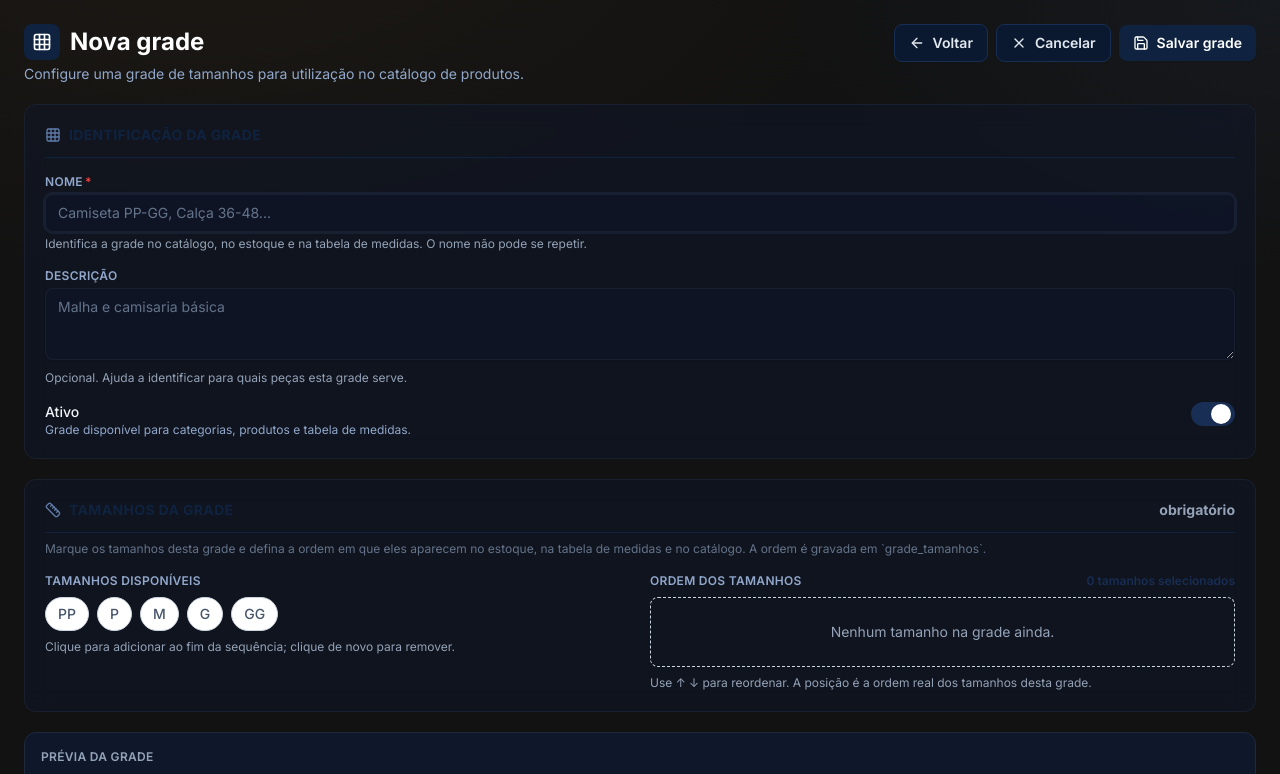
Scenario: nova grade — página própria do ERP › não aceita tamanho duplicado: clicar de novo REMOVE da grade
Click the button "P" at (114, 614), box x1=97 y1=597 x2=132 y2=631
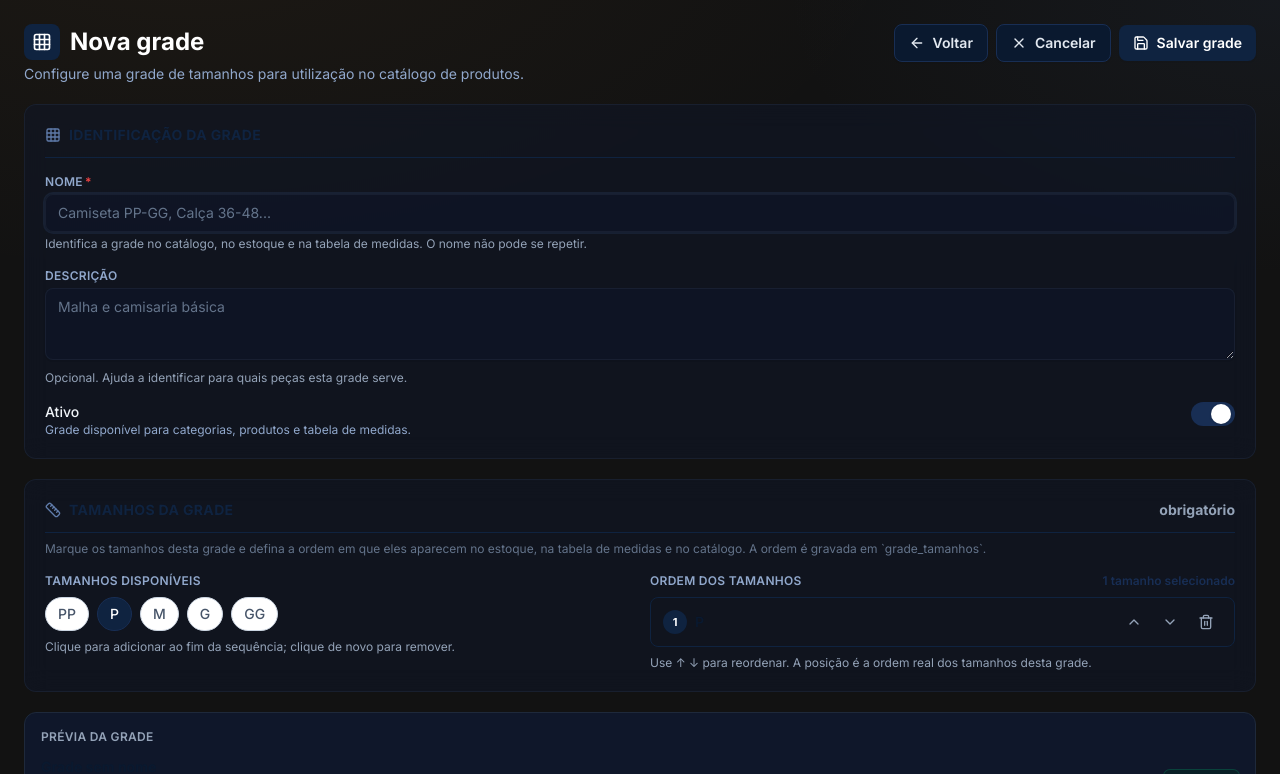
Click the button "P" at (114, 614), box x1=97 y1=597 x2=132 y2=631
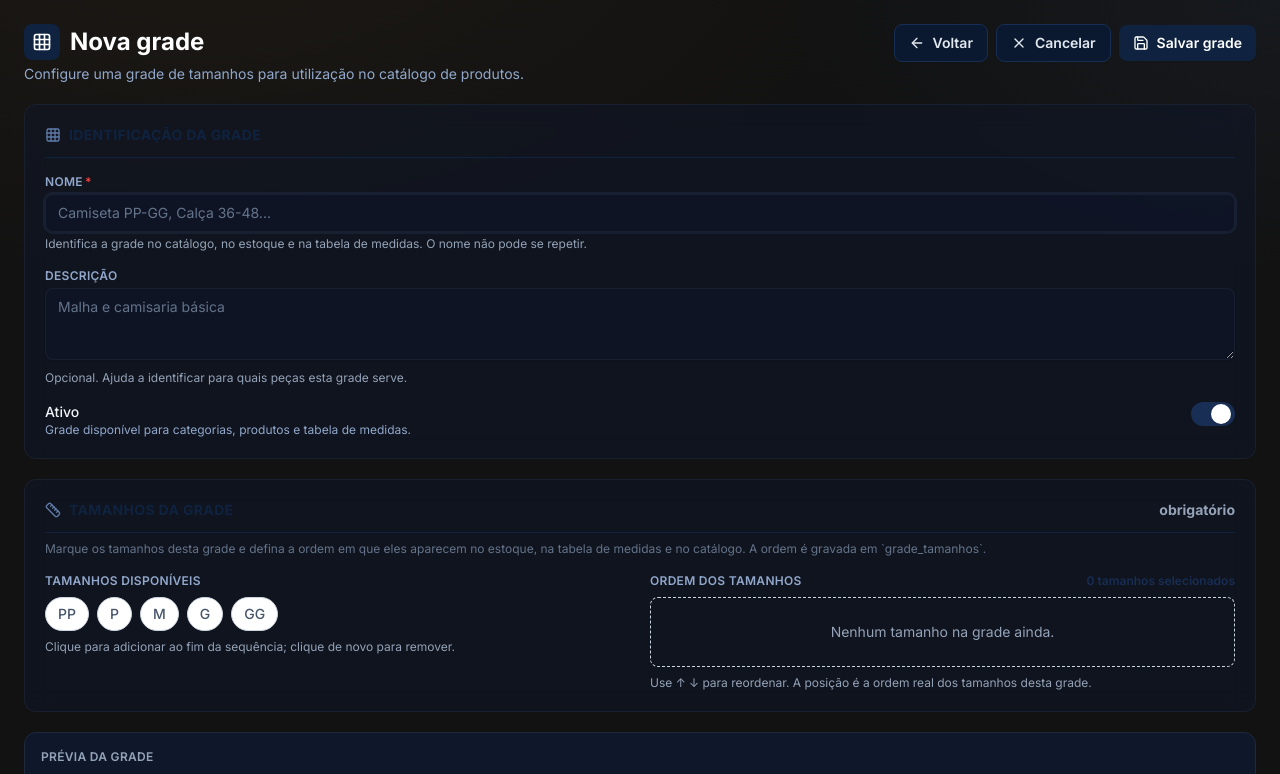
Click the button "P" at (114, 614), box x1=97 y1=597 x2=132 y2=631
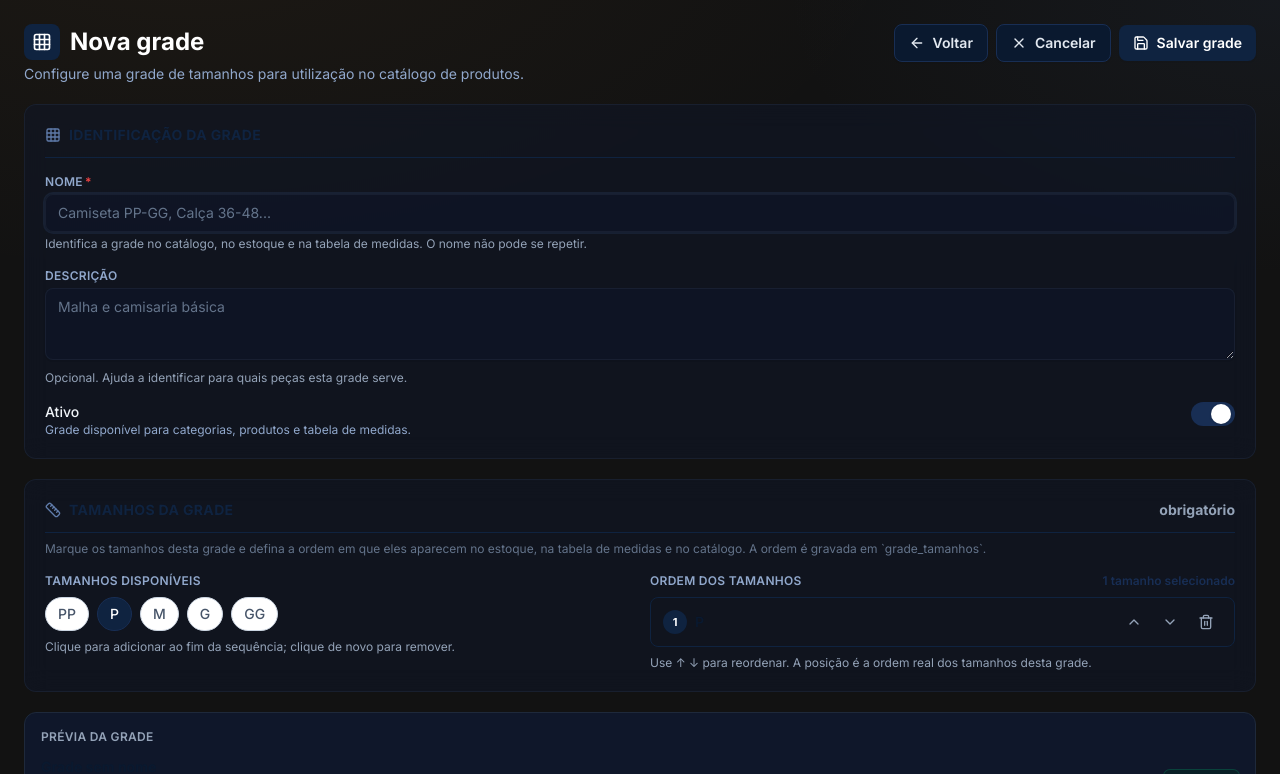
Expected: the text "1 tamanho selecionado" is shown, x1=1103 y1=573 x2=1235 y2=589
